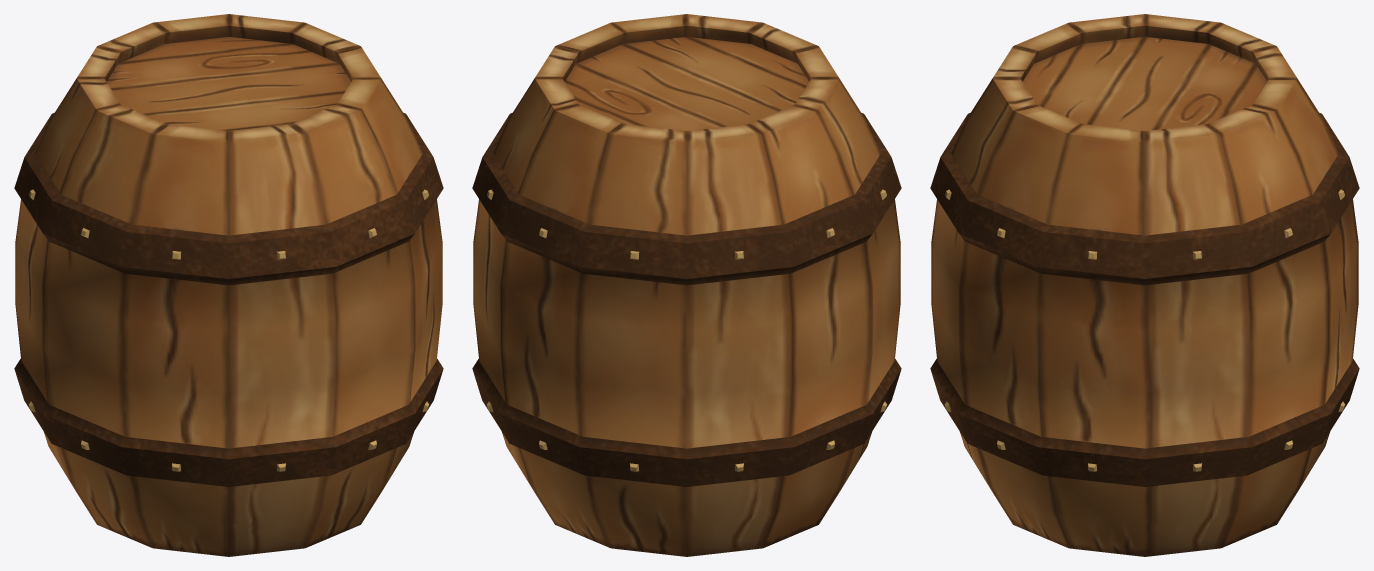
The model's file is Barrel.fbx.
3 renders of one model, left to right at view 1: azimuth 30°, elevation 25°; view 2: azimuth 150°, elevation 25°; view 3: azimuth 270°, elevation 25°, orthographic.
Parts seen in each view (by area): view 1: Barrel_1; view 2: Barrel_1; view 3: Barrel_1.
Boxes of the visible parts, box(x1,y1,x2,y2) form: Barrel_1: box(14, 14, 443, 556); Barrel_1: box(472, 14, 901, 556); Barrel_1: box(930, 14, 1359, 556).
Bounding box in the file's own units: 31 × 33 × 31.
